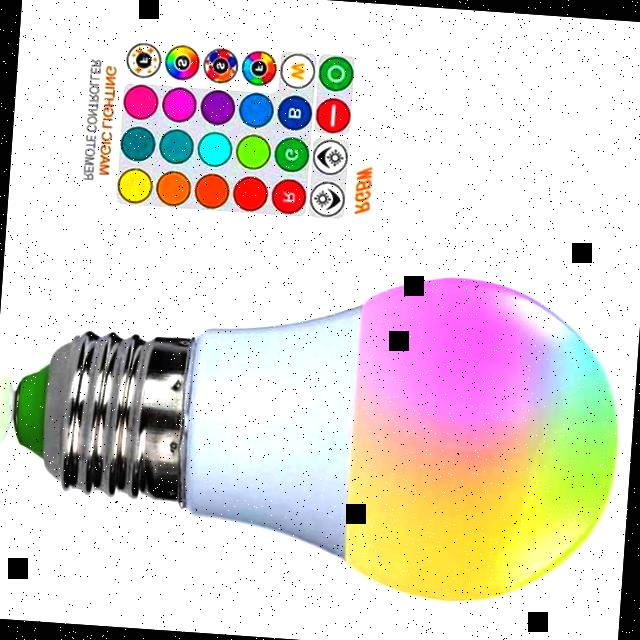light_bulb: (0, 239, 635, 621)
